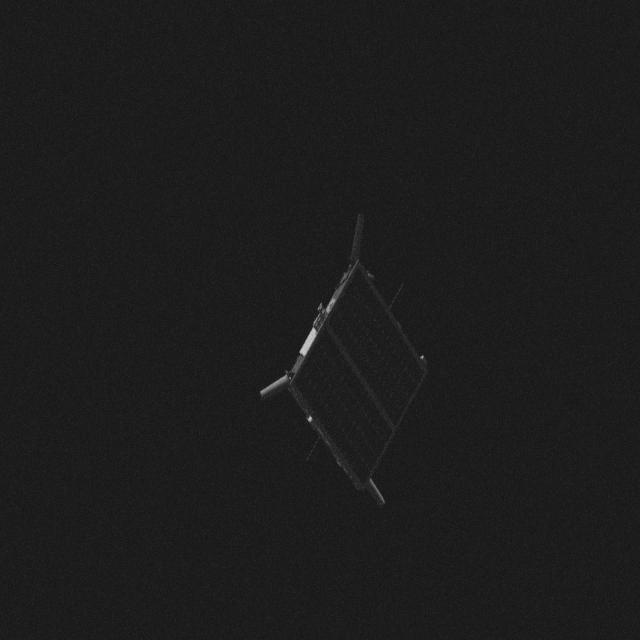medium_debris: (262, 202, 446, 512)
